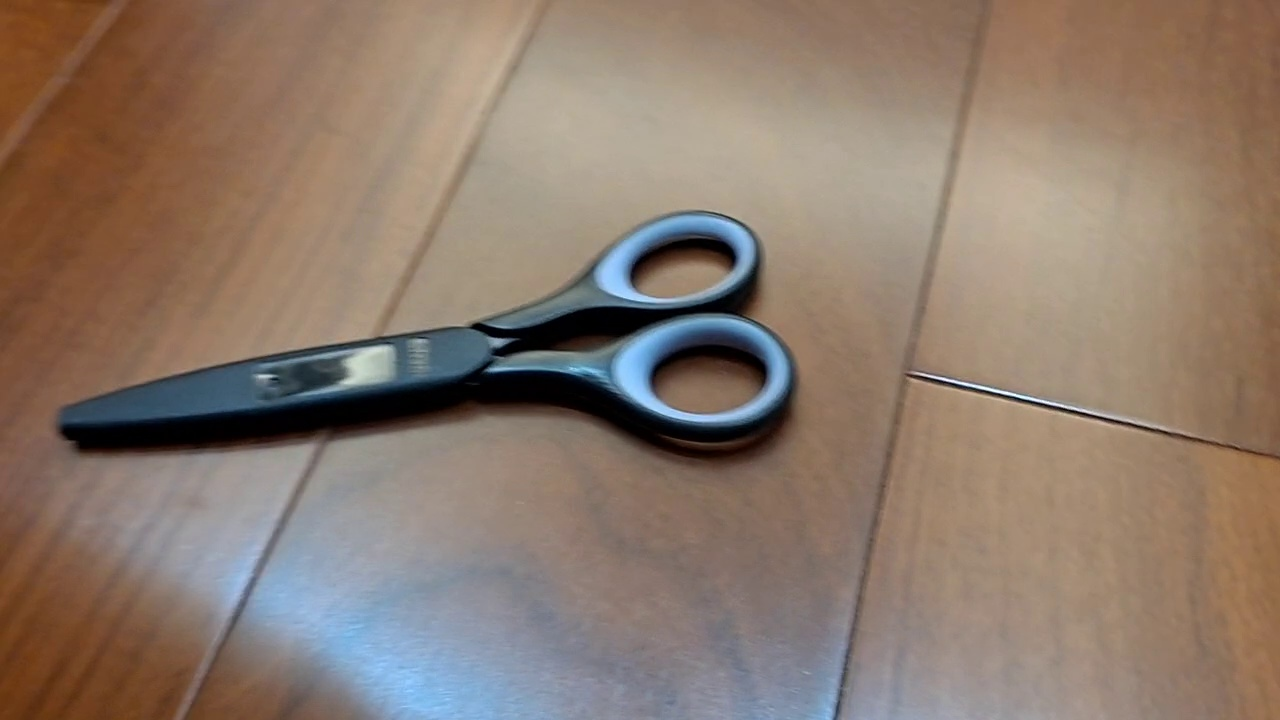scissors: (53, 207, 798, 455)
